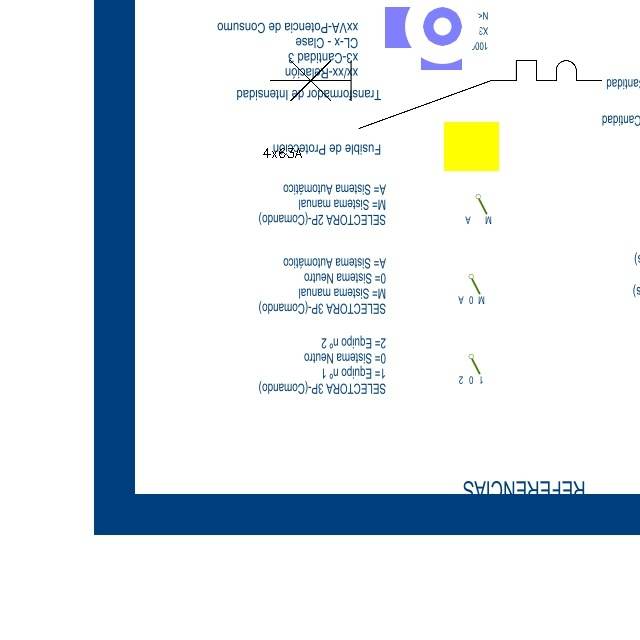interruptor_termomagnetico: (262, 52, 610, 137)
